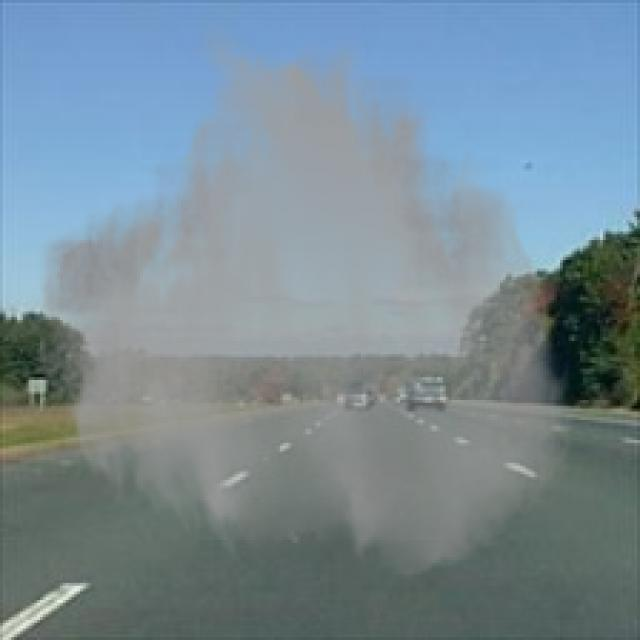Smoke: (31, 23, 578, 580)
